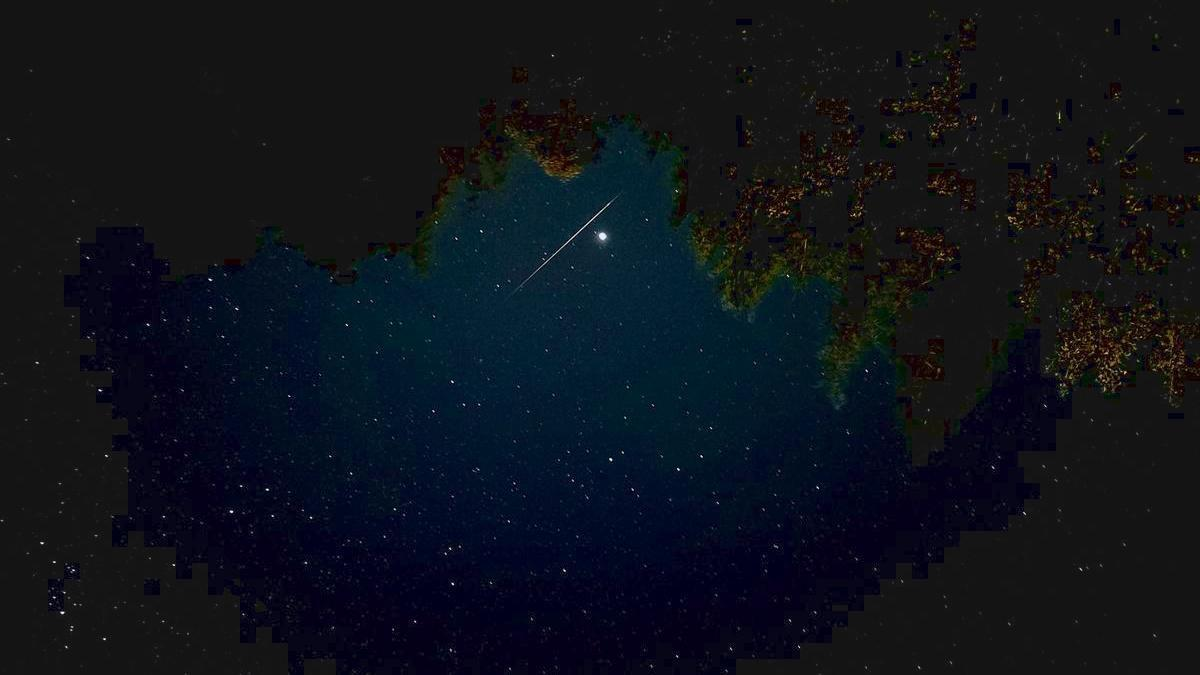meteorite: (559, 191, 628, 252)
